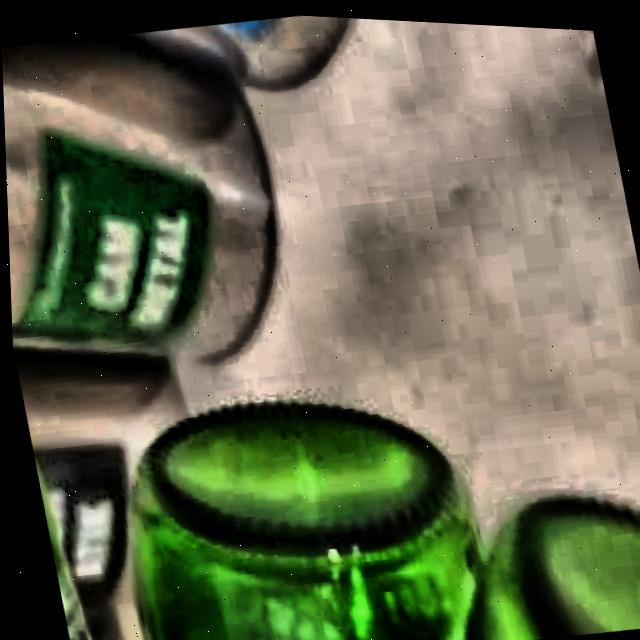glass: (127, 399, 640, 640)
